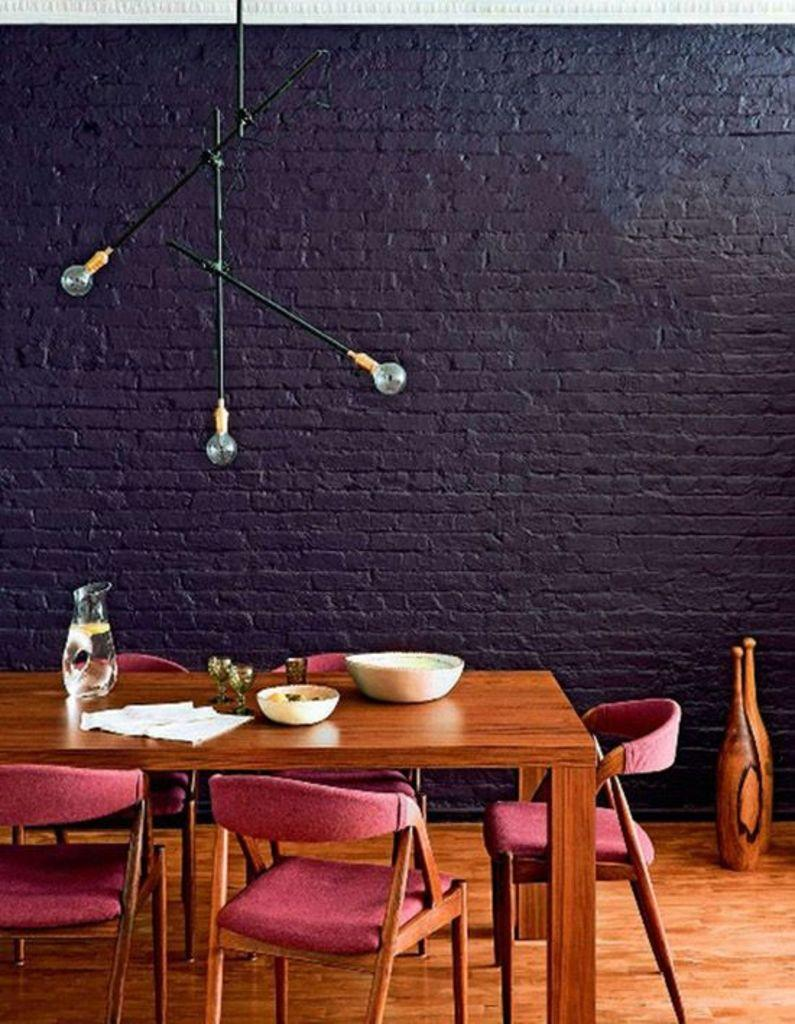Chair: (12, 648, 225, 968), (480, 700, 691, 1023), (233, 652, 428, 968), (0, 761, 169, 1023)
